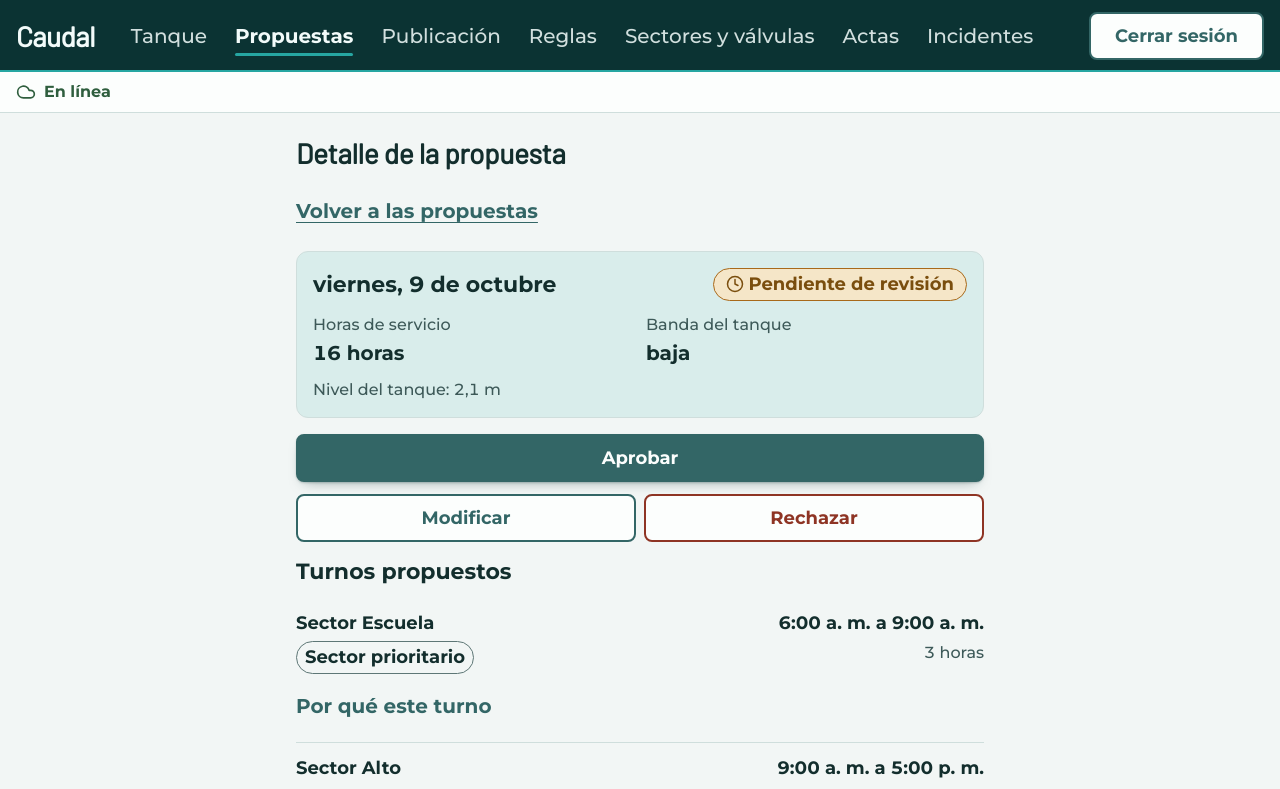
Test: proposal decisions (S13 approve, reject; S15 publish) › asks for confirmation with a summary, approves, and goes to the publication
Click the button "Aprobar" at (640, 458), box [296,434,984,482]
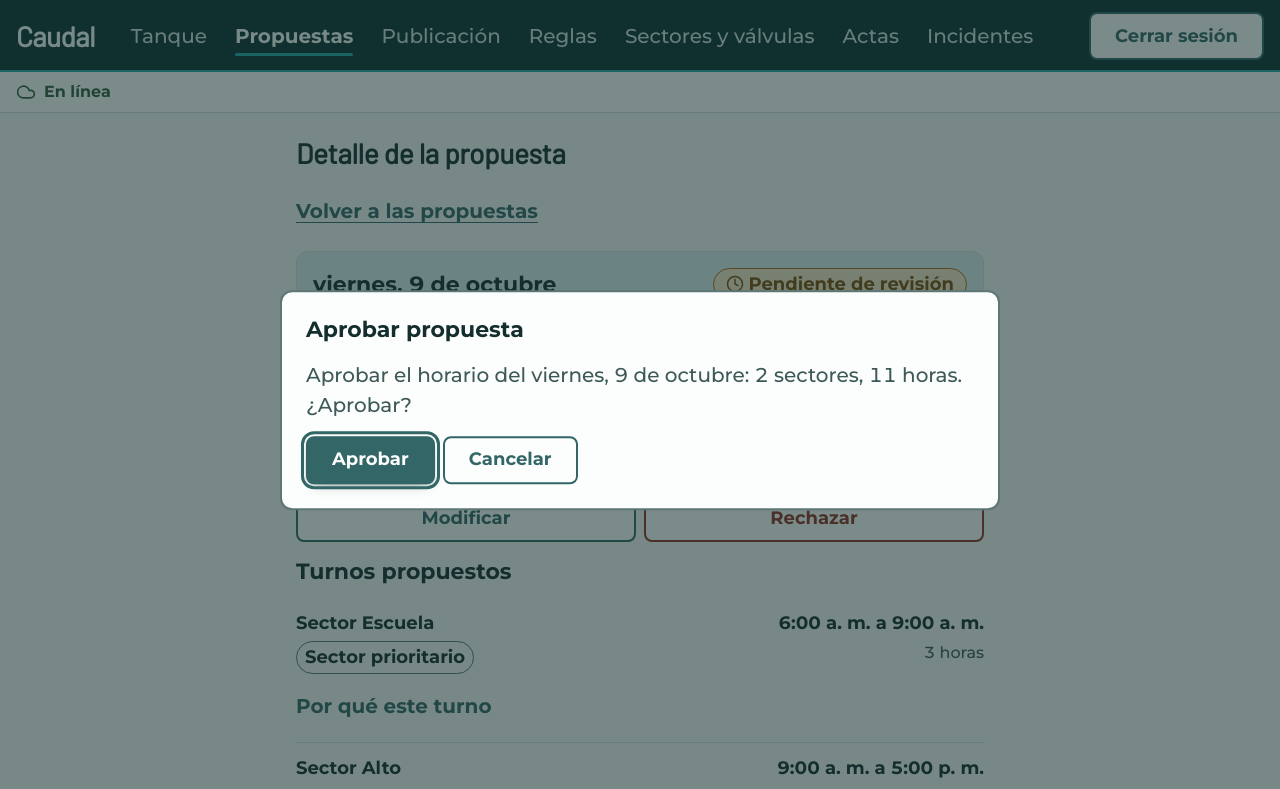
Result: the text "2 sectores, 11 horas" is shown at [306,363,962,417]
Click the button "Aprobar" at (370, 460), box [306,436,435,484]
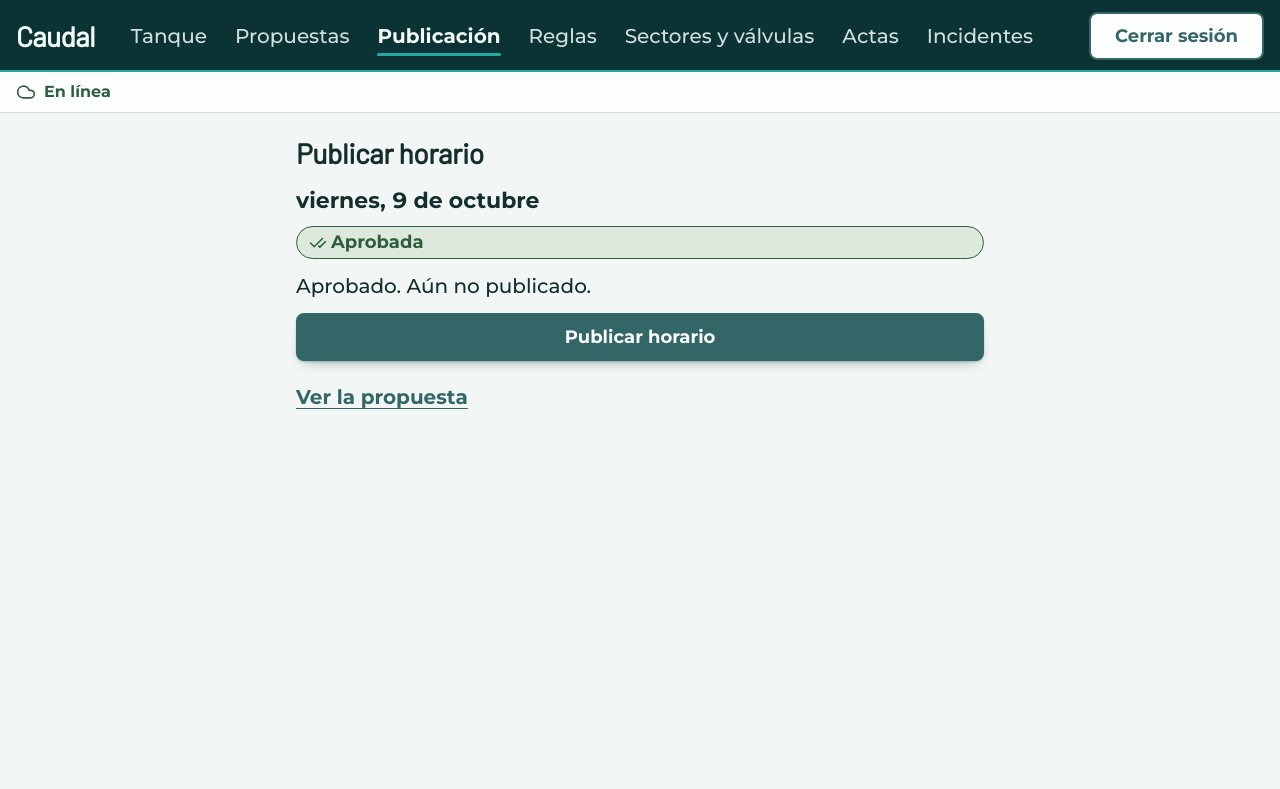
Result: the text "Aprobado. Aún no publicado." is shown at [296,274,591,298]
